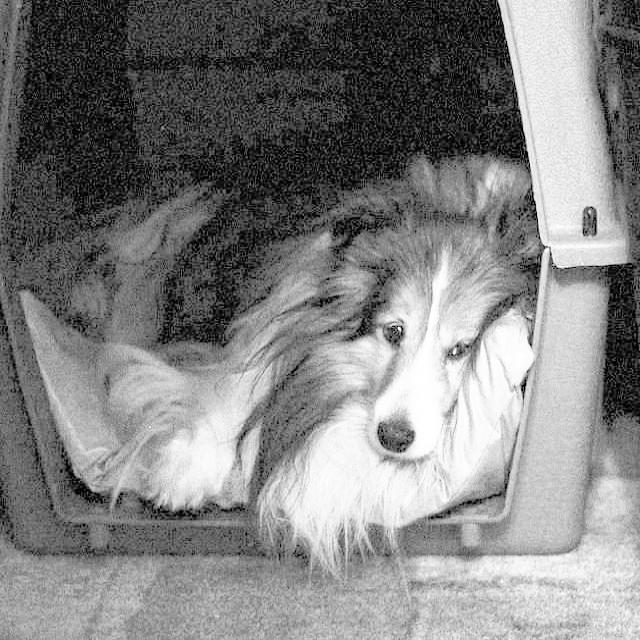Dog: (54, 166, 563, 570)
